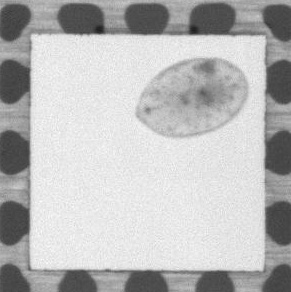DIE_INK: (127, 51, 256, 145)
